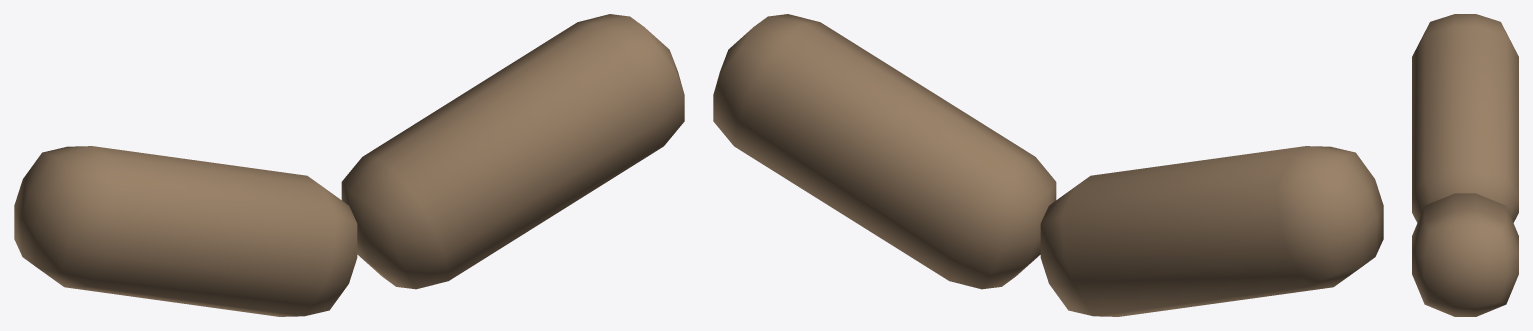
The model's file is CharMustache.fbx.
3 renders of one model, left to right at view 1: azimuth 30°, elevation 25°; view 2: azimuth 150°, elevation 25°; view 3: azimuth 270°, elevation 25°, orthographic. The views are drawn at different scales.
Parts seen in each view (by area): view 1: CharMustache; view 2: CharMustache; view 3: CharMustache.
Part boxes in pixels (x1=…): CharMustache: x1=14, y1=14, x2=684, y2=316; CharMustache: x1=713, y1=14, x2=1383, y2=316; CharMustache: x1=1412, y1=14, x2=1518, y2=316.
Bounding box in the file's own units: 0.1572 × 0.0474 × 0.03.
